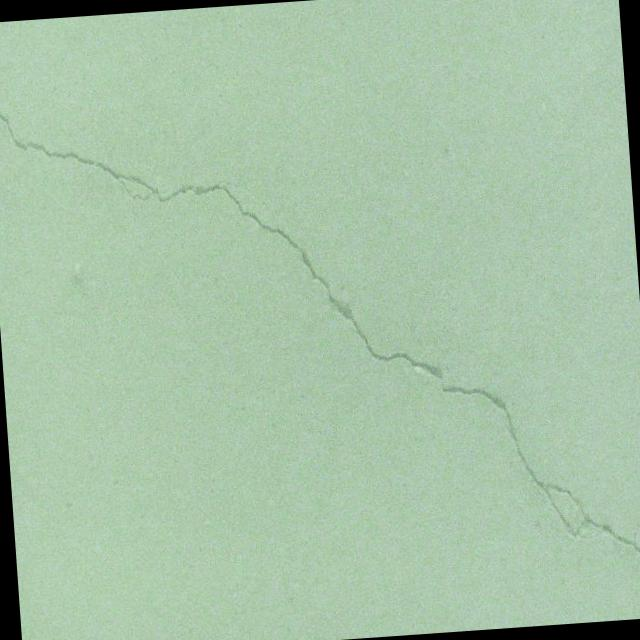crack: (0, 59, 640, 602)
